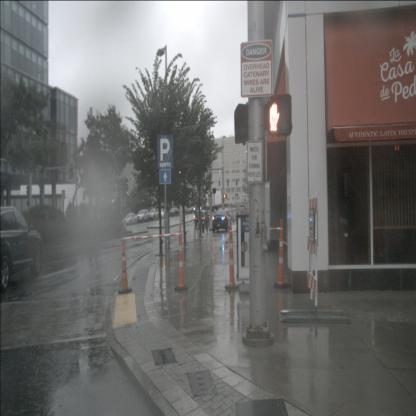movable_object-trafficcone: (174, 224, 189, 292), (274, 219, 288, 289), (225, 221, 239, 291), (118, 229, 132, 294)
vehicle-car: (0, 206, 44, 291), (212, 209, 231, 231), (194, 209, 210, 228), (123, 212, 137, 226), (137, 209, 149, 224), (148, 208, 159, 220), (169, 207, 180, 217), (159, 207, 168, 218), (186, 205, 195, 213)
